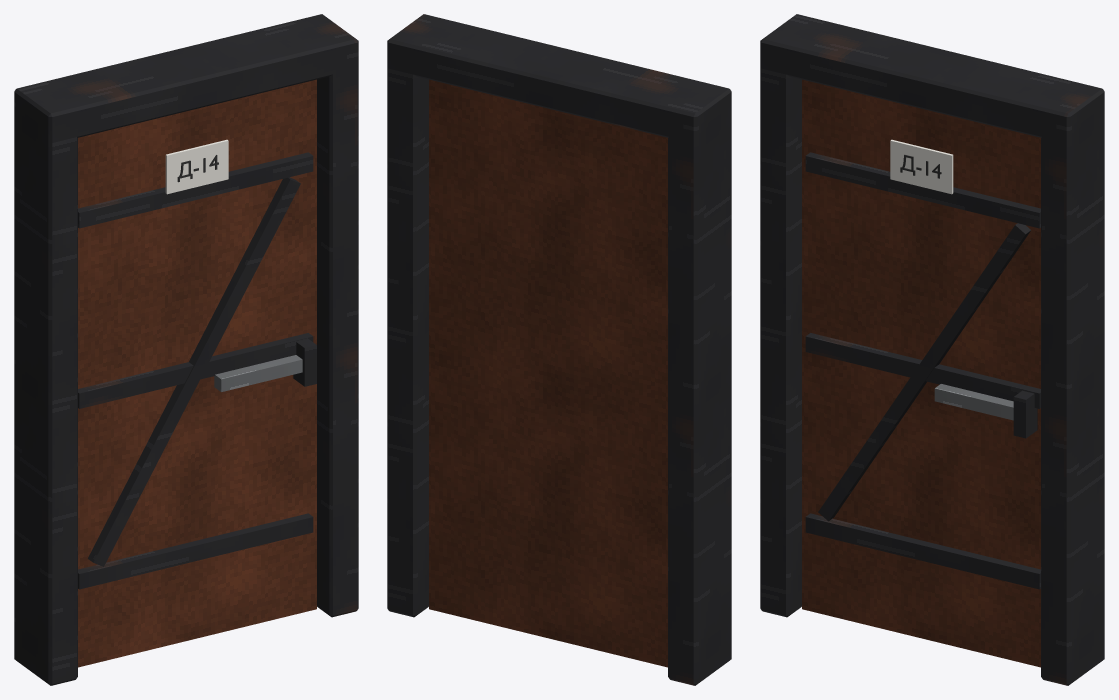
File: steel_door.glb
3 views of the same model, side by side, from view 1: azimuth 30°, elevation 25°; view 2: azimuth 150°, elevation 25°; view 3: azimuth 330°, elevation 25° (orthographic).
Visible parts, largest first — view 1: steel_door; view 2: steel_door; view 3: steel_door.
Part boxes in pixels (x1,y1,x2,y2): steel_door: (14,14,358,685); steel_door: (387,14,731,685); steel_door: (760,14,1104,685).
Size of what is drawn, in the model's own units: 1.26 by 2.22 by 0.26.
Materials: 5 (3 with a texture image).
